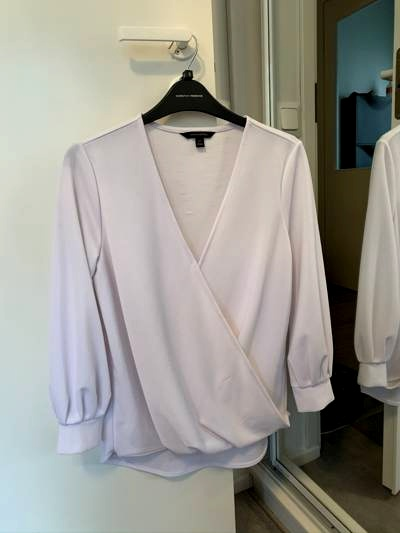Blouse: (28, 81, 336, 474)
